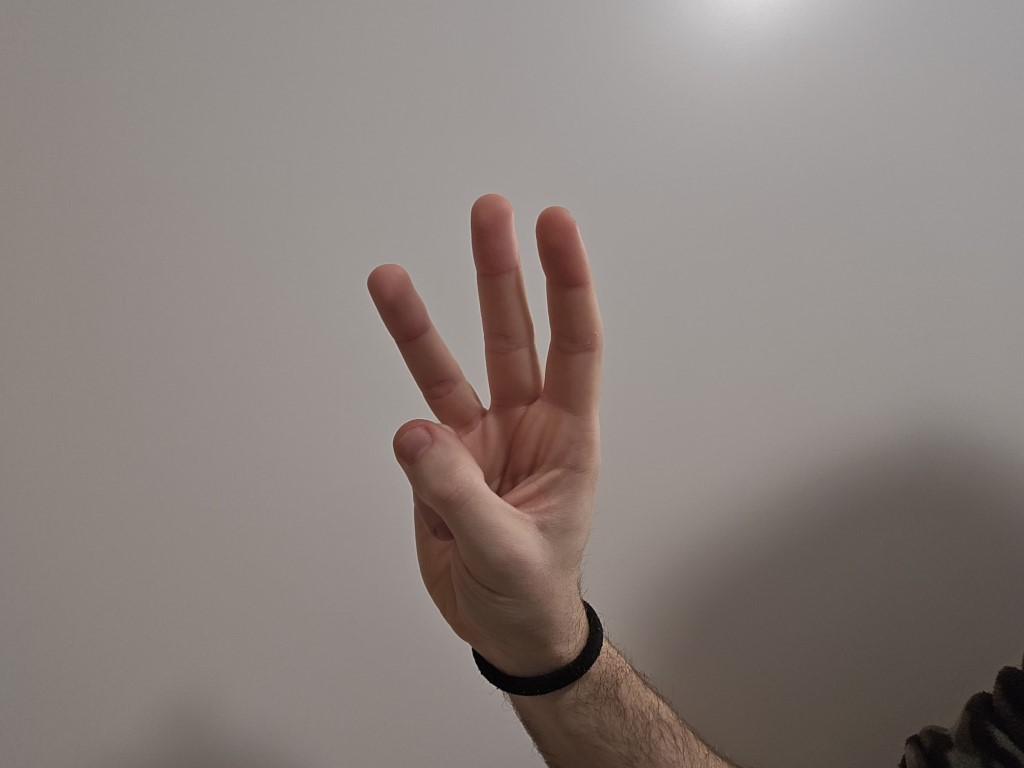w: (337, 176, 651, 646)
